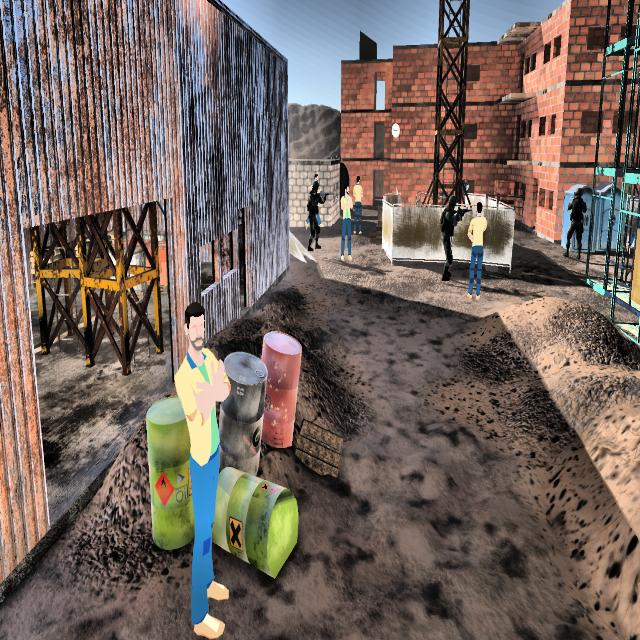bad: (436, 190, 462, 280), (305, 178, 326, 255), (567, 178, 585, 262)
good: (170, 293, 244, 640), (468, 195, 487, 303), (337, 174, 353, 268), (350, 173, 366, 237)
